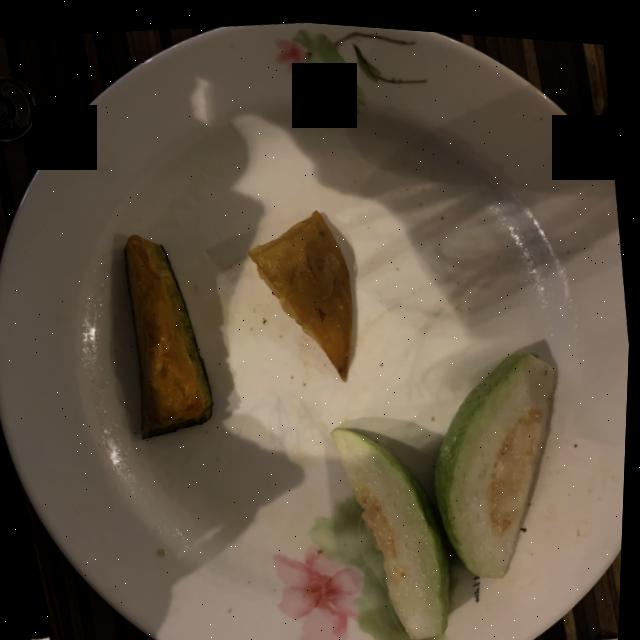coin: (0, 77, 35, 140)
guava -sliced-: (334, 345, 558, 633)
pumpkin: (125, 232, 215, 435)
